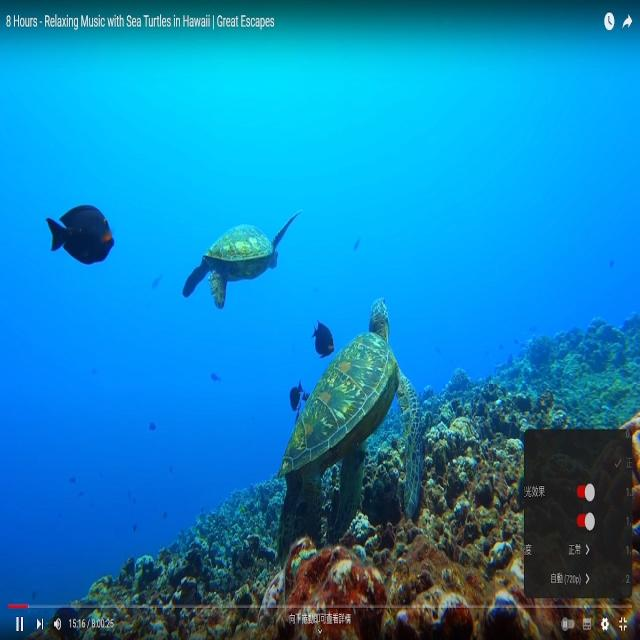Sea turtle: (275, 297, 427, 567), (182, 210, 304, 309)
